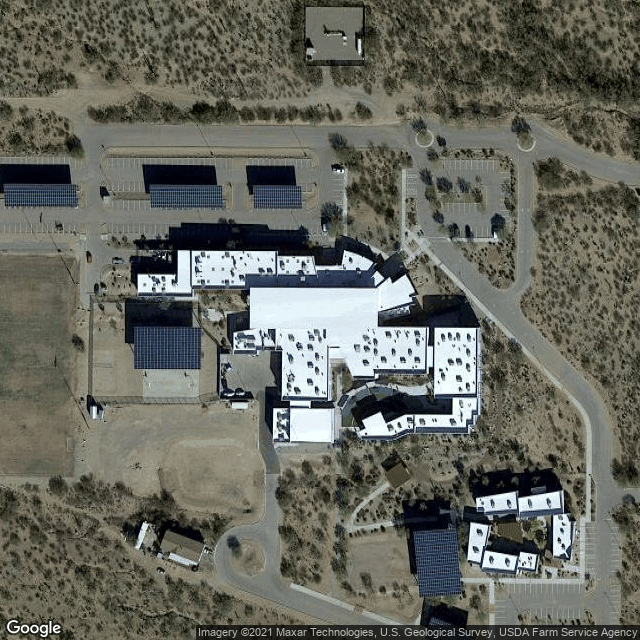carport-fixed: (411, 526, 467, 598), (135, 326, 199, 368), (150, 183, 223, 207), (4, 183, 77, 207), (251, 183, 301, 207)
